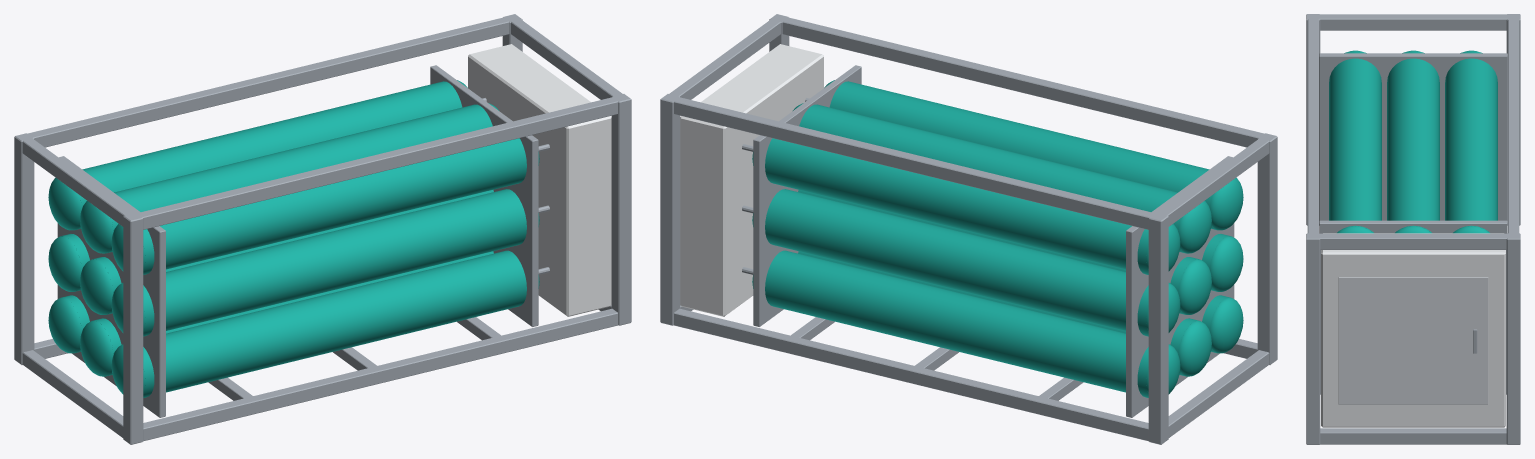
File: iso-tube-container.glb
The picture shows the model from 3 angles, left to right: view 1: azimuth 30°, elevation 25°; view 2: azimuth 150°, elevation 25°; view 3: azimuth 270°, elevation 25°; orthographic projection. The views are drawn at different scales.
Parts seen in each view (by area): view 1: iso-tube-container; view 2: iso-tube-container; view 3: iso-tube-container.
Boxes of the visible parts, box(x1,y1,x2,y2) form: iso-tube-container: box(14, 14, 631, 444); iso-tube-container: box(660, 14, 1277, 444); iso-tube-container: box(1306, 14, 1520, 444).
Bounding box in the file's own units: 6.06 × 2.59 × 2.44.
